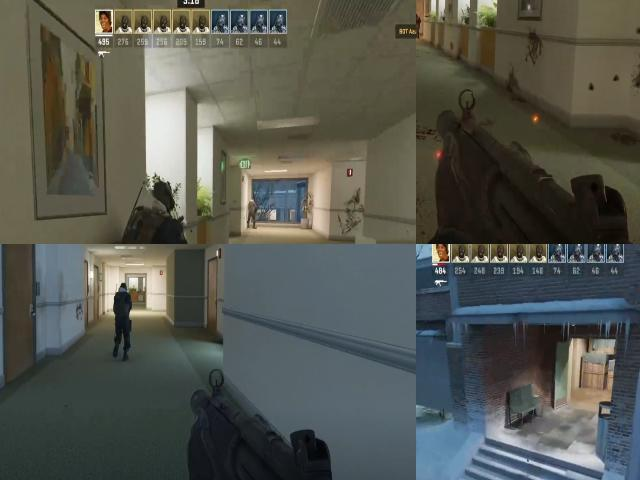CT: (122, 189, 170, 244), (115, 283, 131, 324), (245, 192, 257, 226)
CT-Head: (145, 178, 176, 225), (117, 281, 130, 299)
